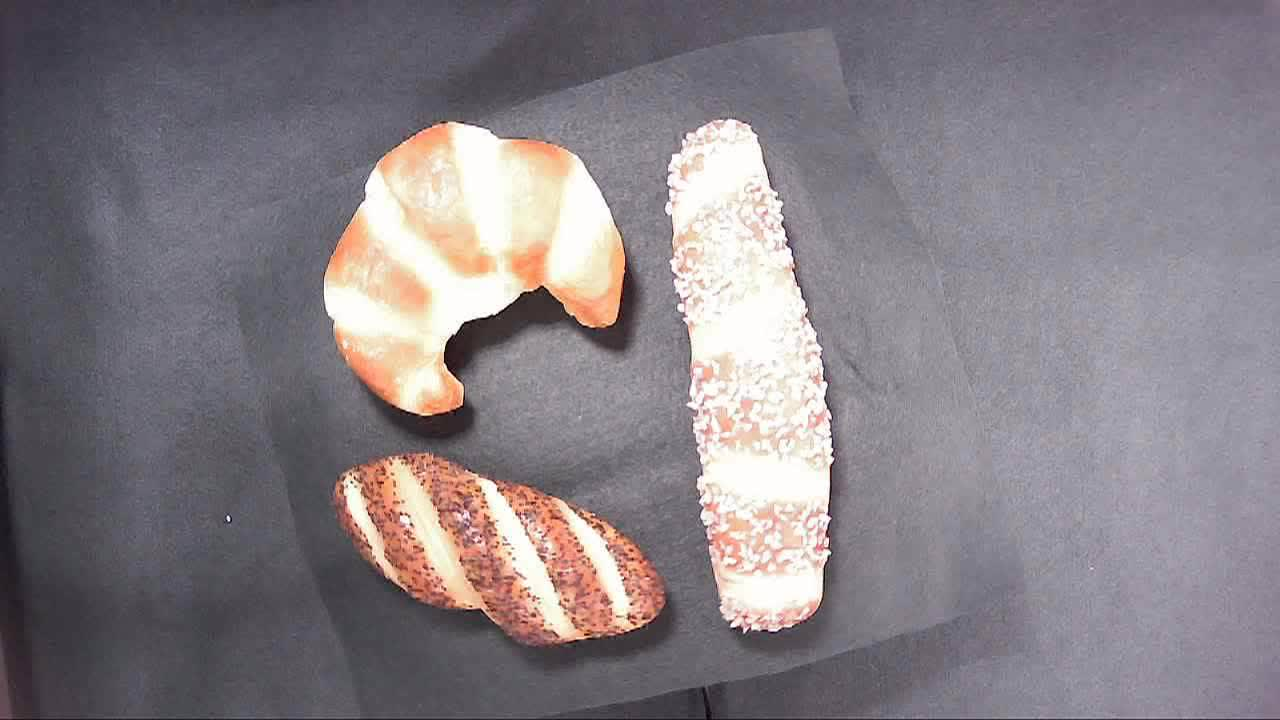cow: (314, 116, 633, 423)
long: (673, 120, 845, 635)
slash: (322, 449, 677, 650)
